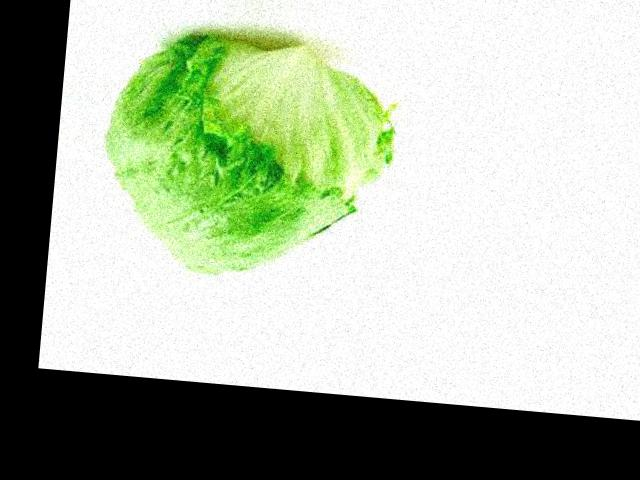lettuce: (370, 118, 498, 348)
